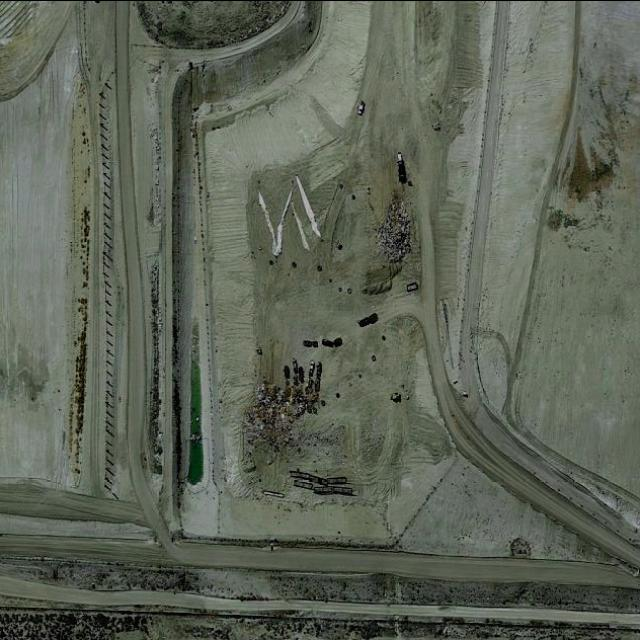dump_site: (241, 375, 327, 453), (371, 186, 412, 264)
